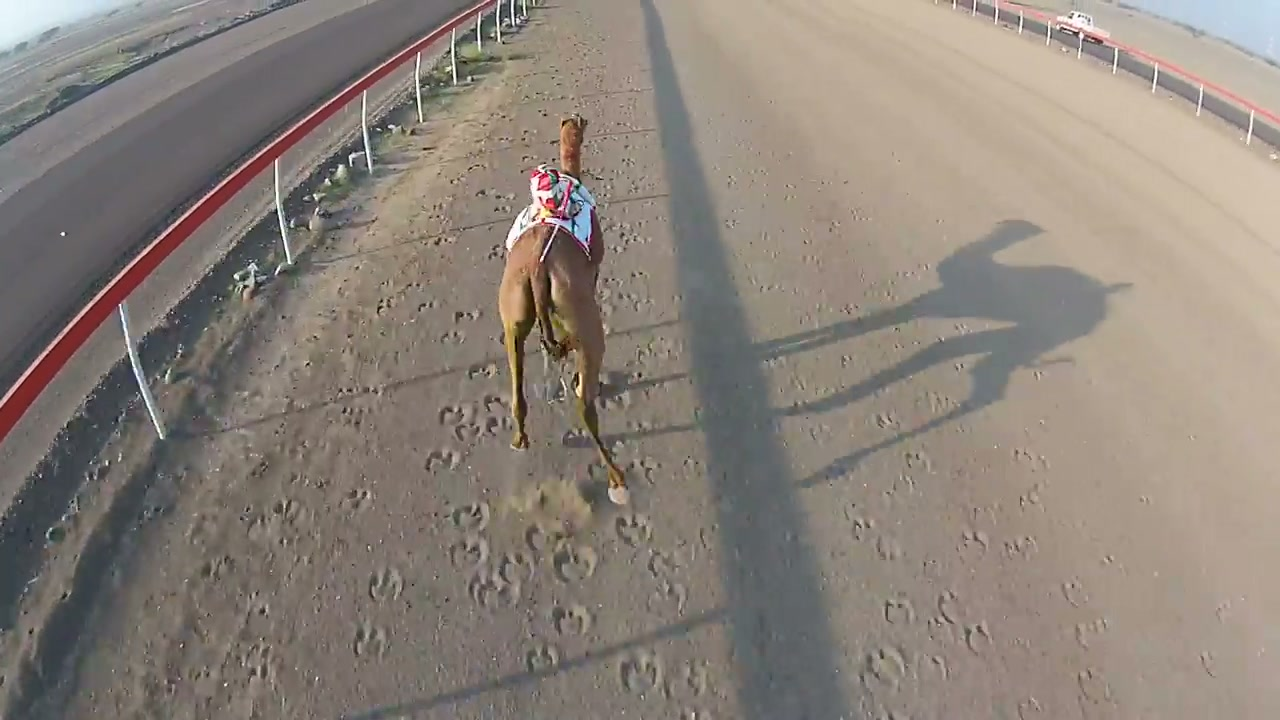animal_foot_print: (468, 567, 522, 608), (862, 646, 907, 691), (619, 650, 662, 695), (552, 541, 597, 582), (668, 659, 709, 696), (240, 641, 275, 683), (448, 534, 489, 569), (524, 523, 567, 556), (648, 579, 687, 615), (550, 603, 592, 635), (449, 501, 490, 533), (352, 621, 388, 657), (495, 551, 534, 584), (614, 513, 651, 547), (1077, 668, 1112, 703), (368, 567, 403, 602), (525, 642, 560, 673), (957, 529, 989, 562), (647, 550, 681, 578), (199, 555, 234, 581), (883, 596, 915, 624), (965, 621, 992, 654), (424, 448, 461, 472), (937, 590, 963, 624), (341, 488, 372, 512), (1016, 696, 1047, 719), (876, 534, 902, 561), (440, 405, 474, 425), (851, 515, 876, 541), (467, 361, 499, 378), (453, 309, 481, 323), (440, 329, 465, 344)
